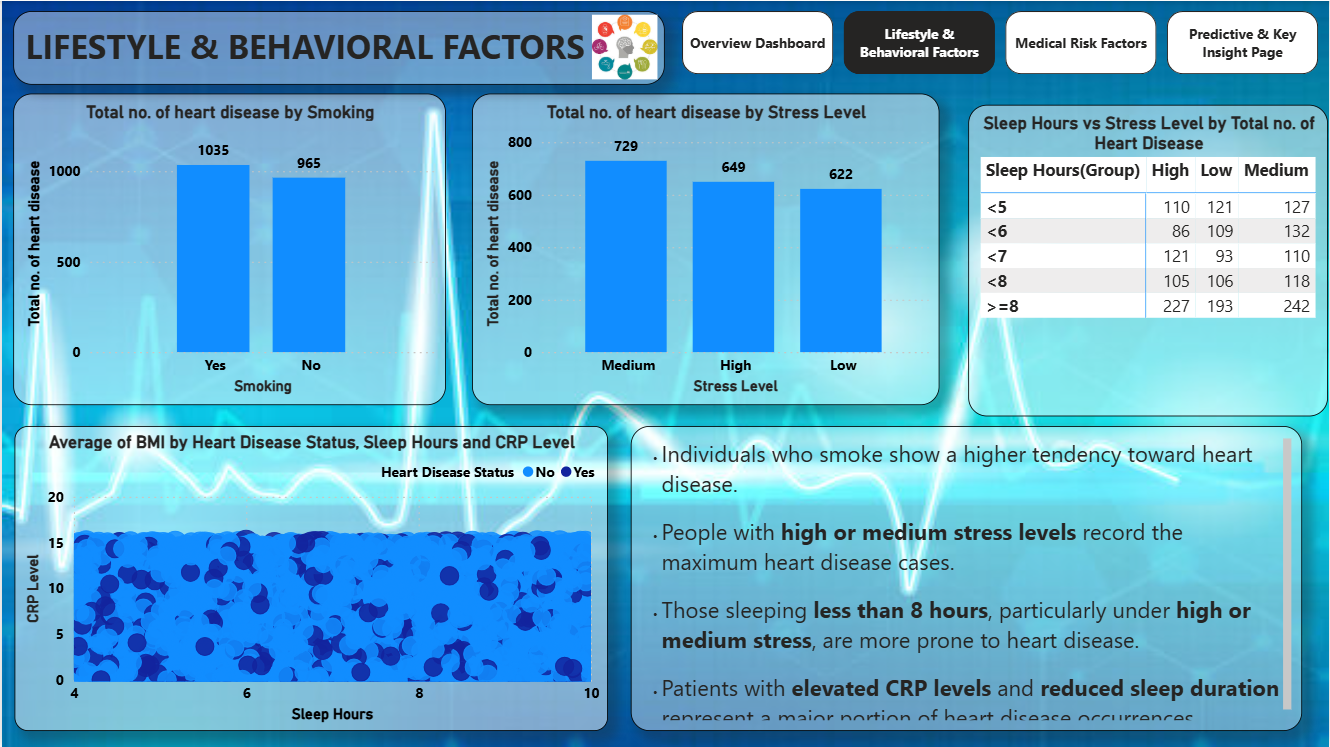

The page's visual inventory and layout, read from the dashboard file:
{"tool":"powerbi","page":{"name":"Lifestyle & Behavioral Factors","canvas":[1280,720],"ordinal":2},"visuals":[{"type":"clusteredColumnChart","fields":{"Category":["heart_disease.Stress Level"],"Y":["heart_disease.Total no. of heart disease"]},"box":[453.6,89.3,451.2,300.4],"z":0},{"type":"pivotTable","title":"Sleep Hours vs Stress Level by Total no. of Heart Disease","fields":{"Values":["heart_disease.Total no. of heart disease"],"Columns":["heart_disease.Stress Level"],"Rows":["heart_disease.Sleep Hours(Group)"]},"box":[932.6,100.1,347.5,300.4],"z":1000},{"type":"columnChart","fields":{"Category":["heart_disease.Smoking"],"Y":["heart_disease.Total no. of heart disease"]},"box":[10.9,89.3,417.4,300.4],"z":2000},{"type":"scatterChart","fields":{"X":["heart_disease.Sleep Hours"],"Y":["heart_disease.CRP Level"],"Series":["heart_disease.Heart Disease Status"],"Size":["Avg(heart_disease.BMI)"]},"box":[11.5,409.7,572.8,294.3],"z":3000},{"type":"pageNavigator","box":[656.3,9.7,614.1,61.5],"z":4000},{"type":"textbox","box":[10.9,9.7,628.6,71.2],"z":5000},{"type":"image","box":[562.2,8.4,77.2,72.4],"z":6000},{"type":"textbox","box":[607.4,409.7,647.8,294.3],"z":7000}]}

Visuals, with their boxes in screenshot pixels (x1, y1, x2, y2), scaled from the page's 1280x720 canvas onto the 1330x747 screenshot:
clusteredColumnChart - heart_disease.Stress Level x heart_disease.Total no. of heart disease: 471,93,940,404
"Sleep Hours vs Stress Level by Total no. of Heart Disease" pivotTable: 969,104,1329,416
columnChart - heart_disease.Smoking x heart_disease.Total no. of heart disease: 11,93,445,404
scatterChart - heart_disease.Sleep Hours x heart_disease.CRP Level: 12,425,607,730
pageNavigator: 682,10,1320,74
textbox: 11,10,664,84
image: 584,9,664,84
textbox: 631,425,1304,730
